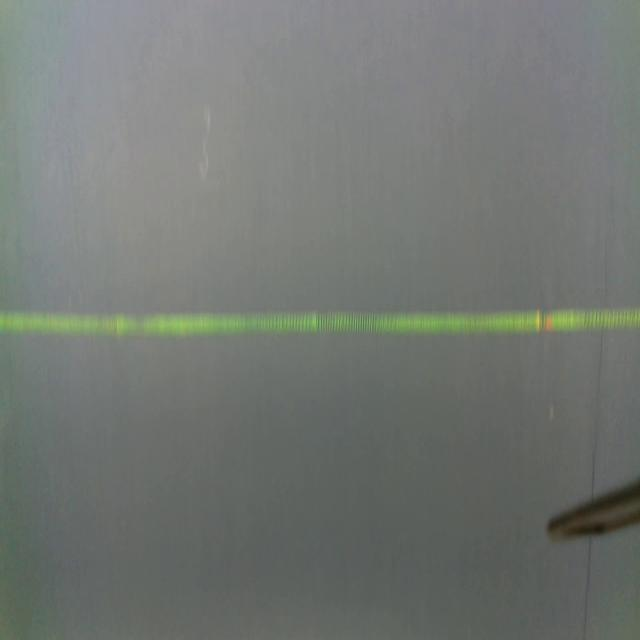crease: (590, 322, 606, 499), (580, 537, 594, 640)
